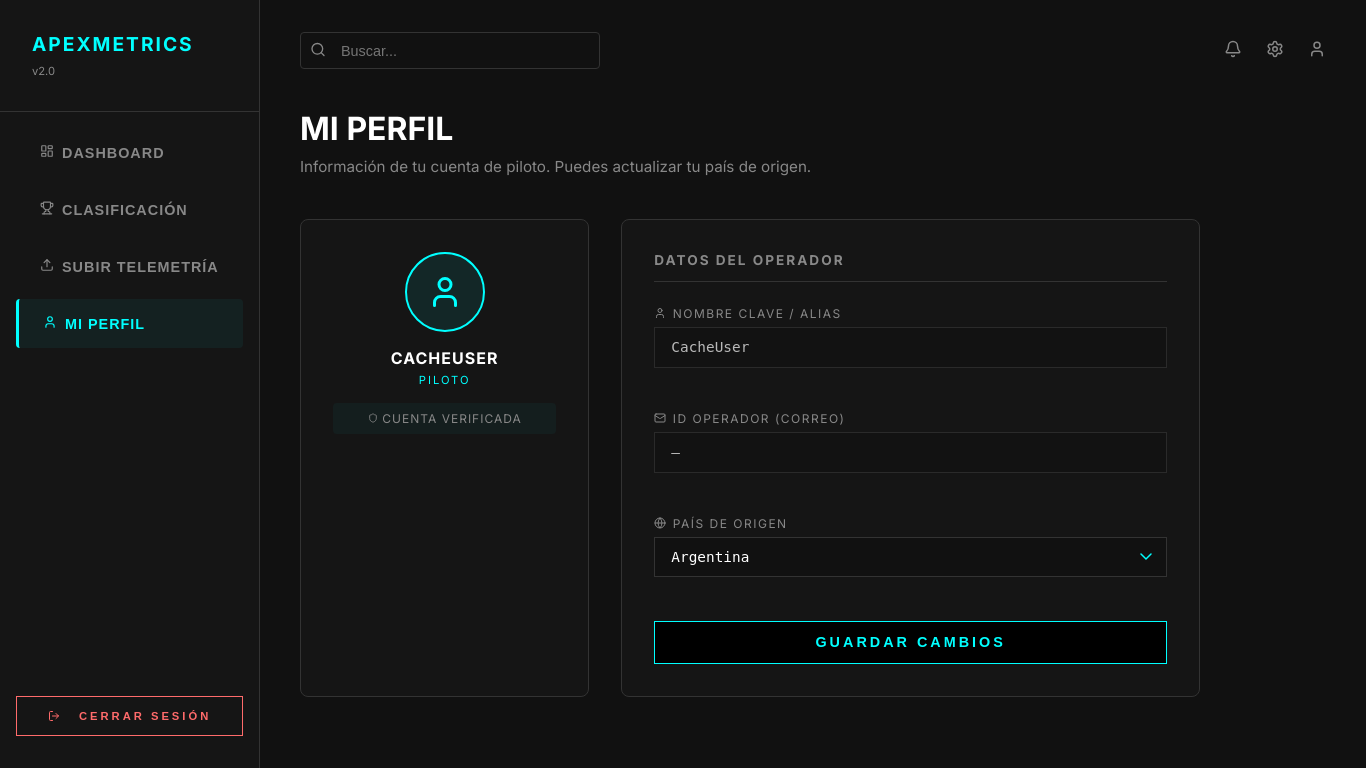
it: Profile — RF03 › muestra error cuando el PUT falla
The image size is (1366, 768).
Click the button "GUARDAR CAMBIOS": (911, 642) [654,621,1167,664]
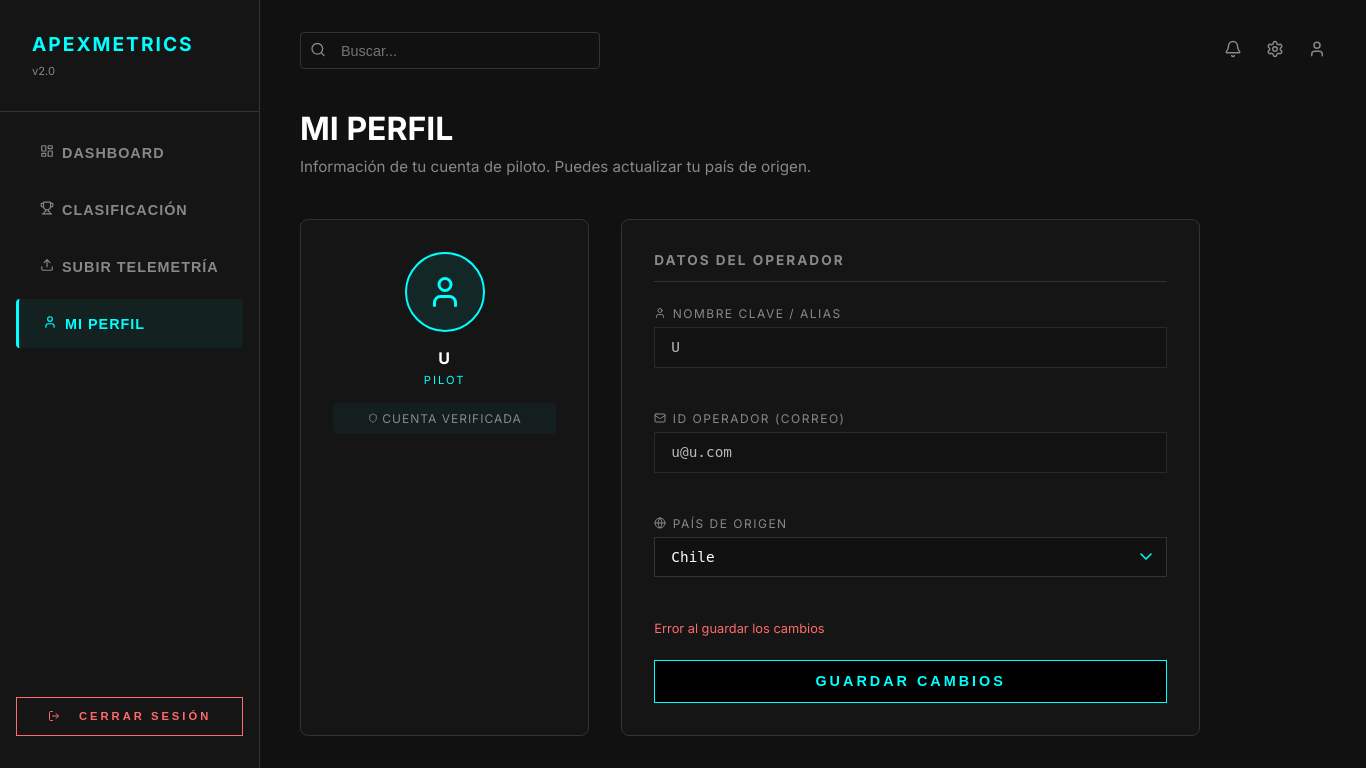
Now the text "Error al guardar los cambios" is shown, box [654,621,825,636]
